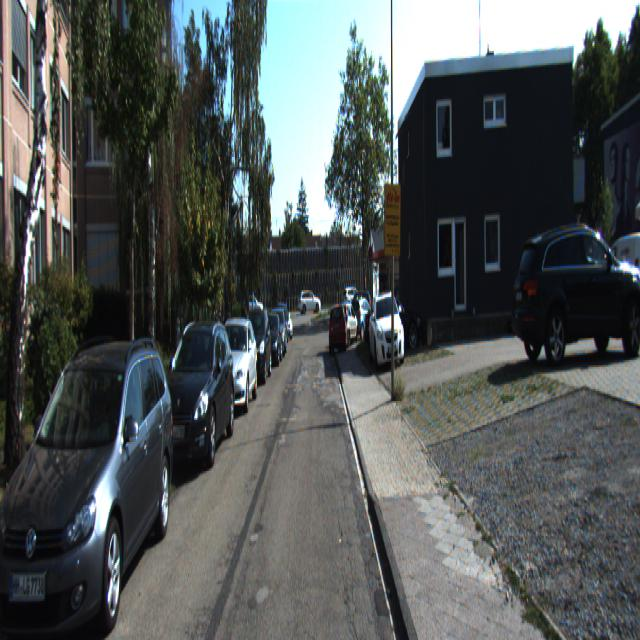Car: (0, 329, 179, 639), (509, 206, 640, 367), (150, 315, 236, 482), (210, 314, 258, 415), (595, 221, 640, 317), (364, 294, 422, 358), (368, 290, 405, 370), (240, 307, 273, 386), (262, 311, 284, 368), (327, 299, 349, 356), (347, 297, 373, 343), (341, 286, 364, 313), (297, 290, 320, 312), (242, 294, 262, 316)
